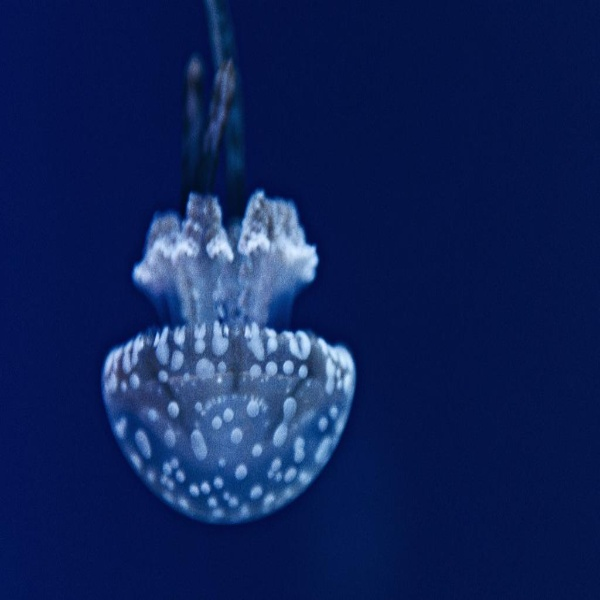Jellyfish: (98, 0, 356, 525)
